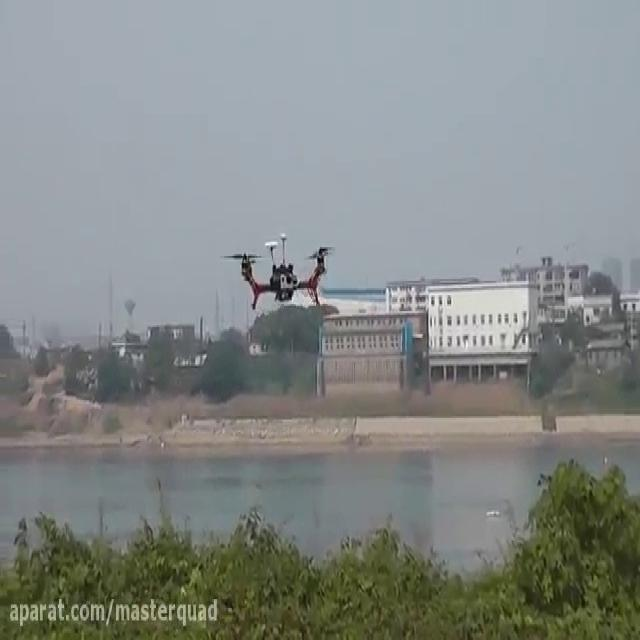drone: (215, 224, 337, 318)
